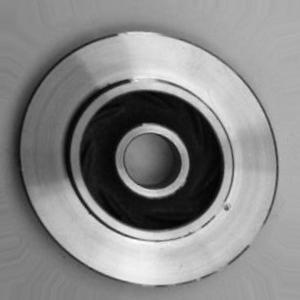defect: (215, 187, 239, 225)
